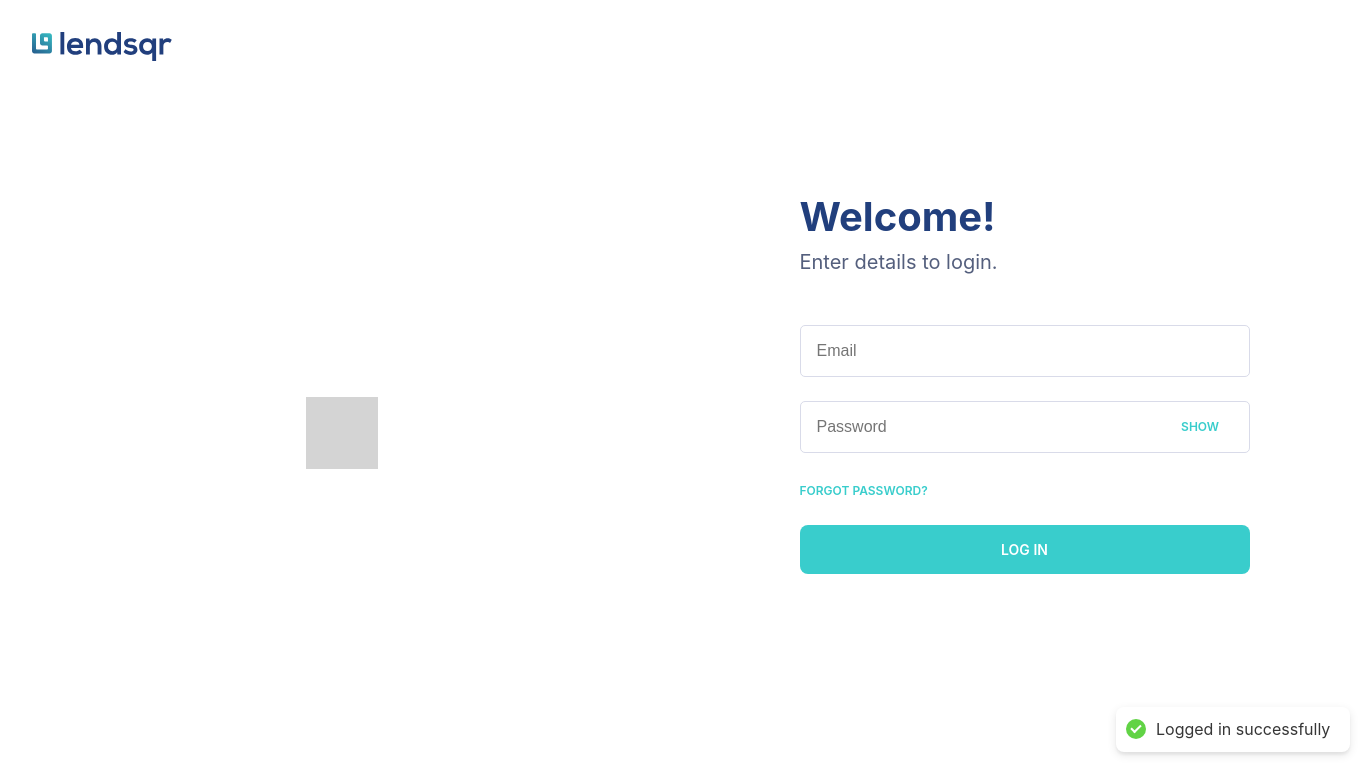
it: LoginPage Component › shows an error message when login fails
This screenshot has width=1366, height=768.
Type "wrong@example.com" into the field with placeholder "Email" at (1024, 350), box [800,324,1250,376]
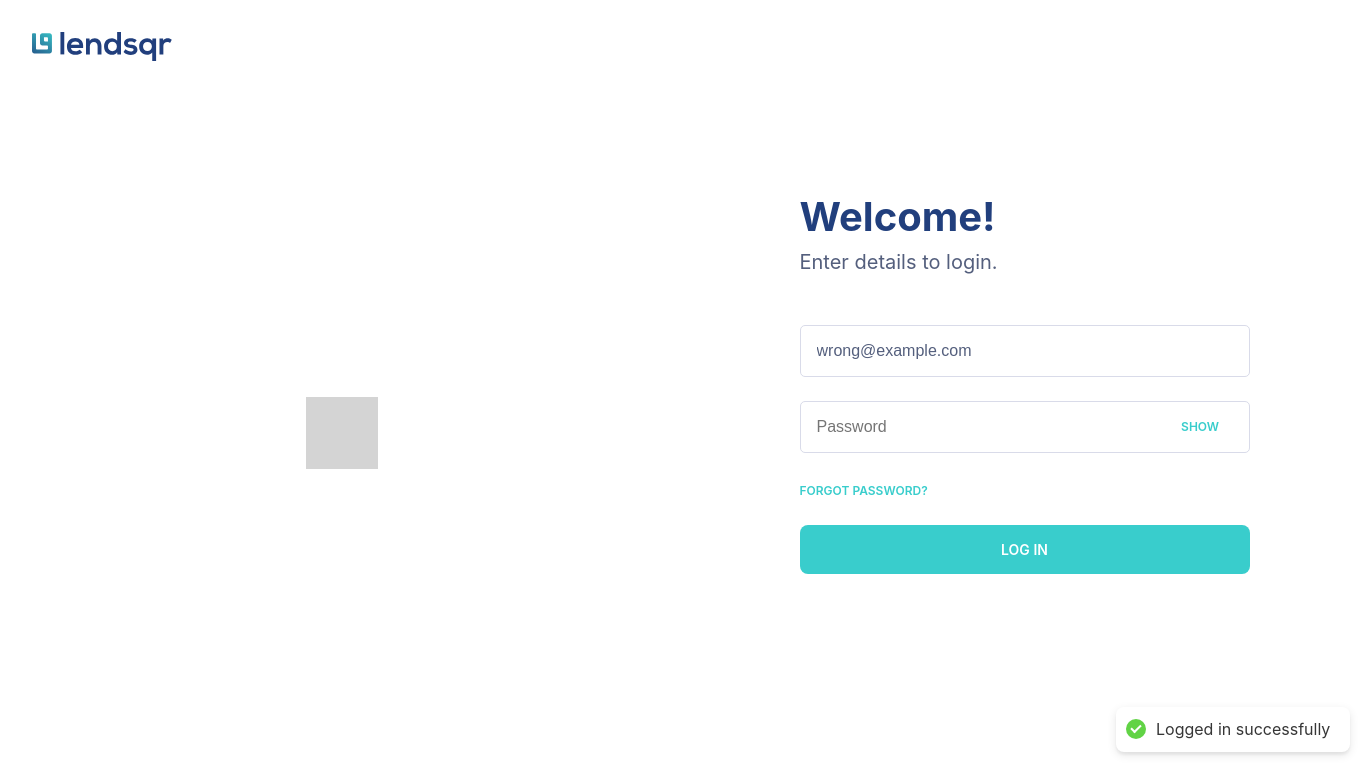
Type "incorrectPassword" into the password field with placeholder "Password" at (1024, 426), box [800,400,1250,452]
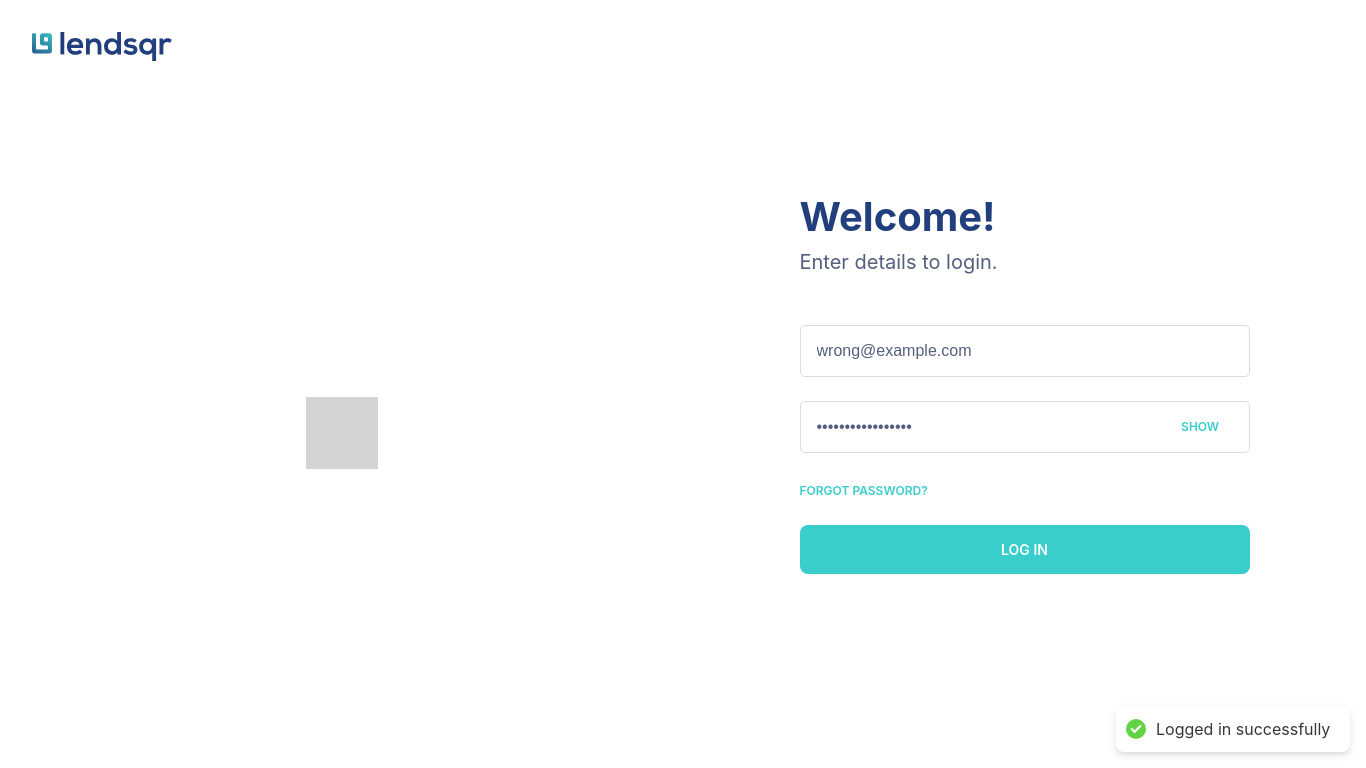
Click the button "LOG IN" at (1024, 549), box [800,524,1250,574]
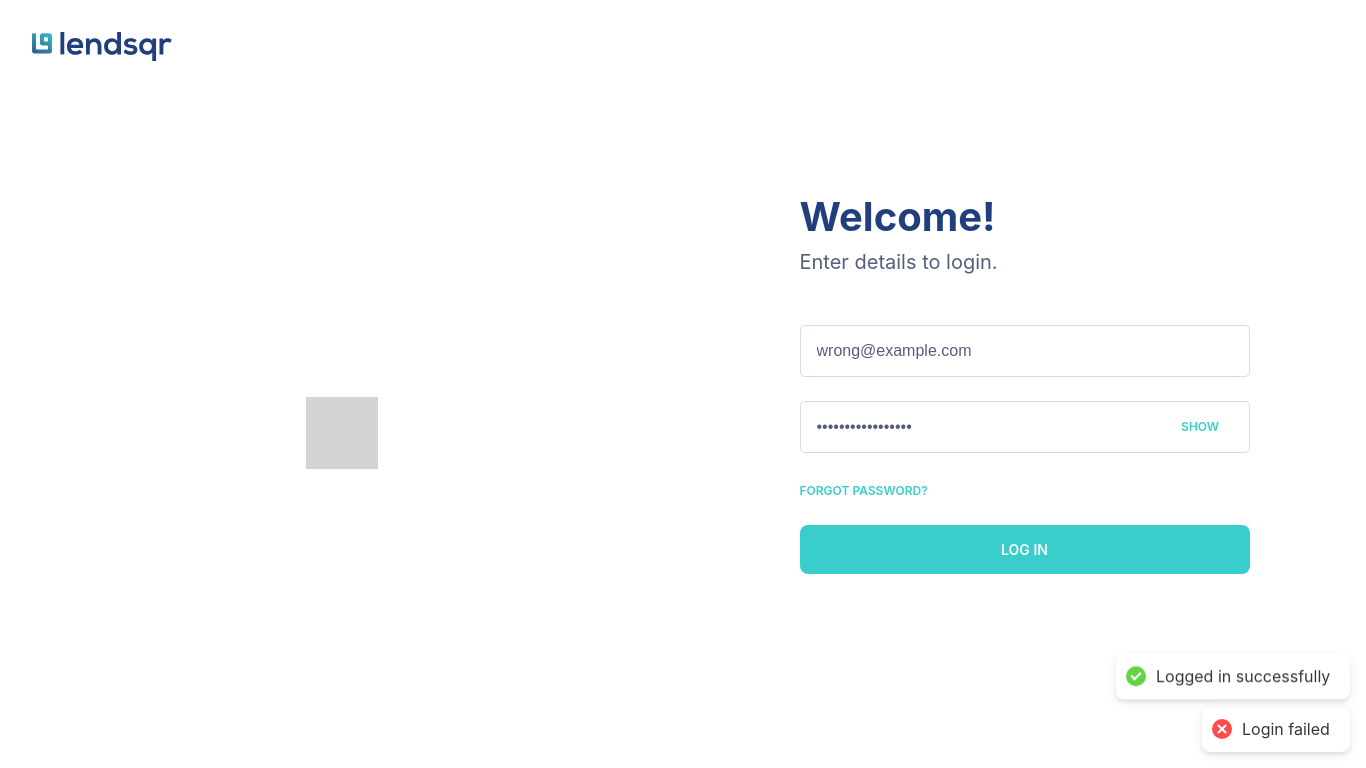
Expected: the text "Login failed" is shown, [1242,719,1330,740]
